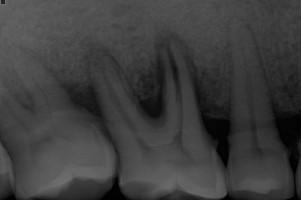Dental Caries: (128, 31, 201, 119), (80, 36, 122, 85)
